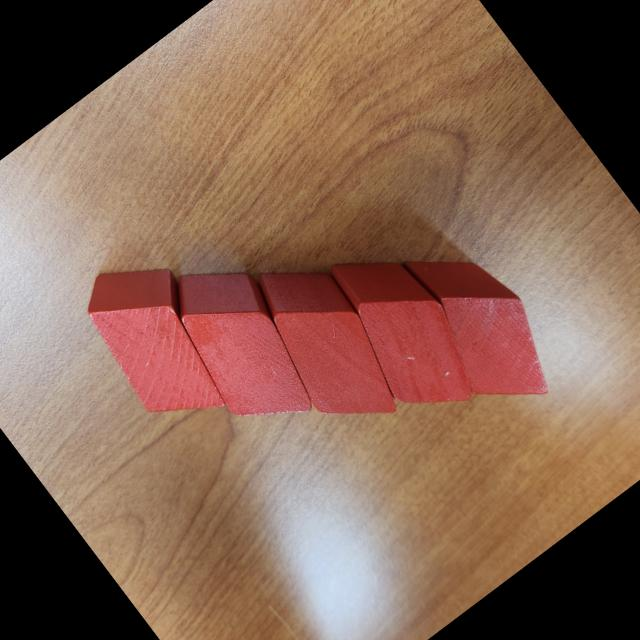red: (384, 219, 577, 430), (147, 240, 340, 451), (306, 226, 498, 437), (232, 241, 420, 450), (64, 238, 254, 442)
